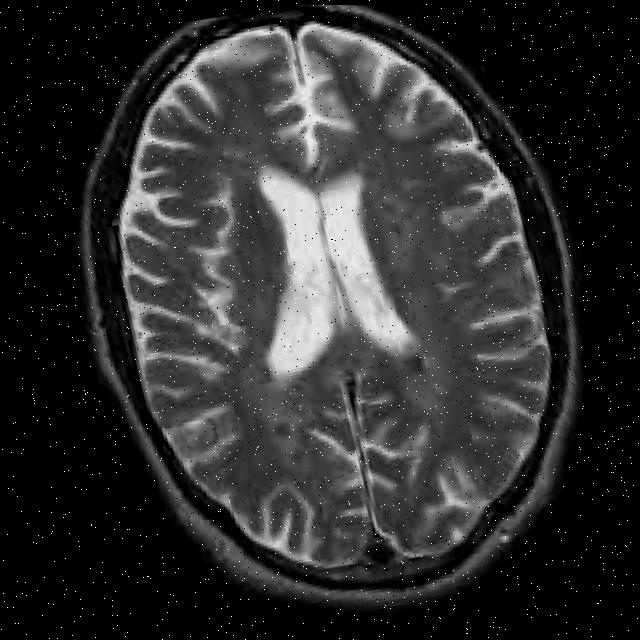NoTumor: (51, 1, 615, 610)
